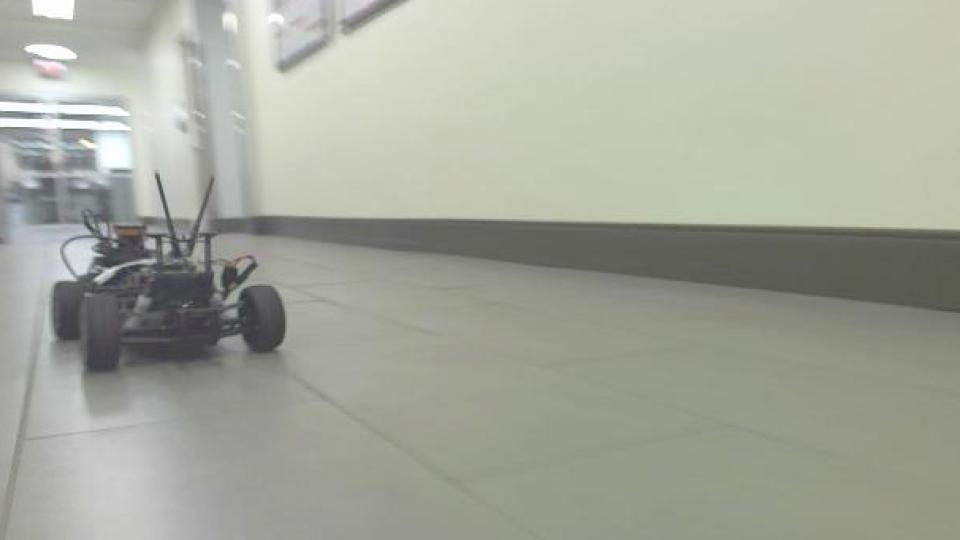car: (46, 168, 288, 374)
